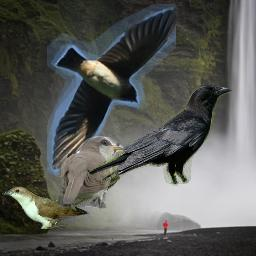Crow: (88, 85, 233, 186)
Cuckoo: (2, 175, 120, 229), (58, 136, 124, 209)
Swallow: (47, 4, 176, 177)
